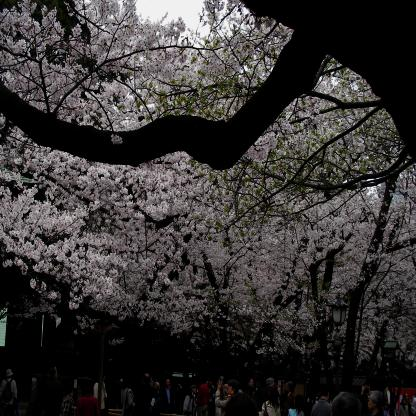Someiyoshino: (2, 0, 415, 354)
